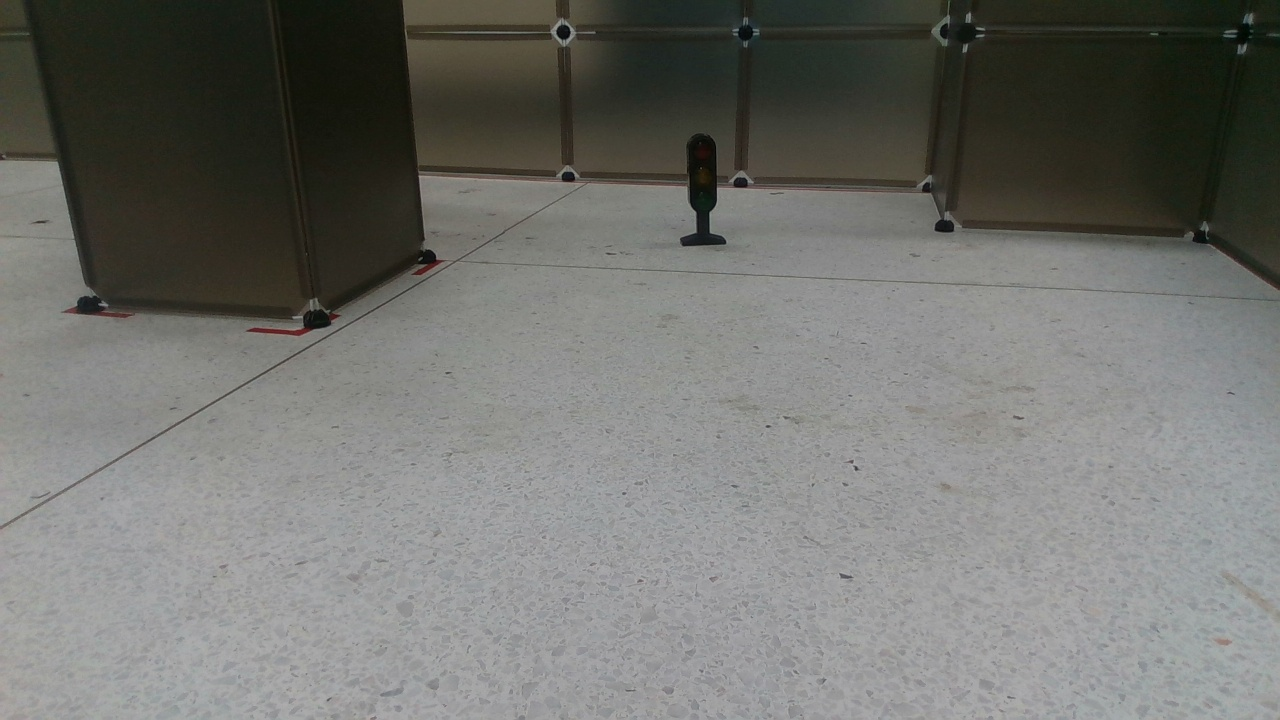Dim traffic light: (672, 131, 731, 250)
